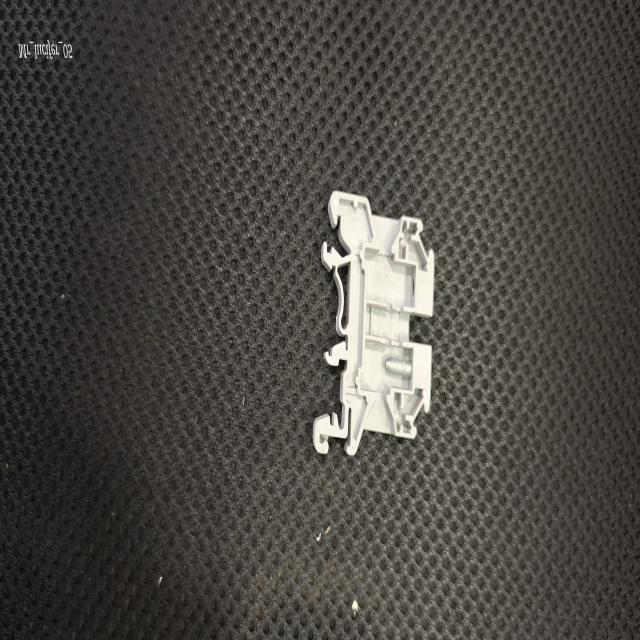Reject: (309, 183, 437, 465)
